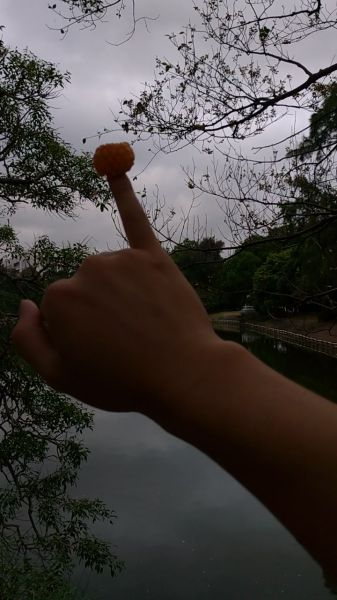eggs: (92, 143, 136, 174)
